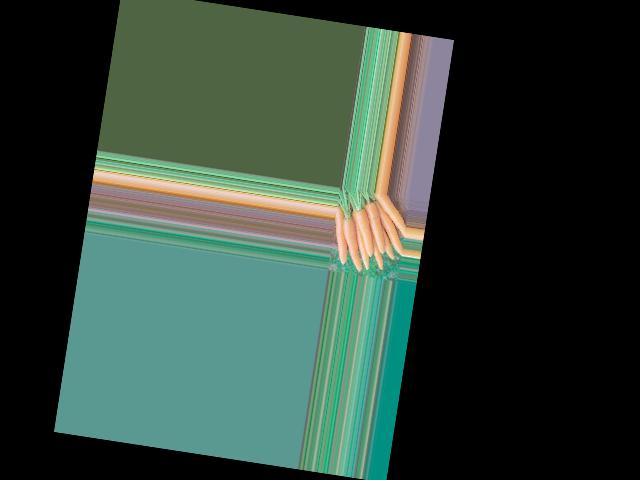carrot: (364, 193, 411, 243)
